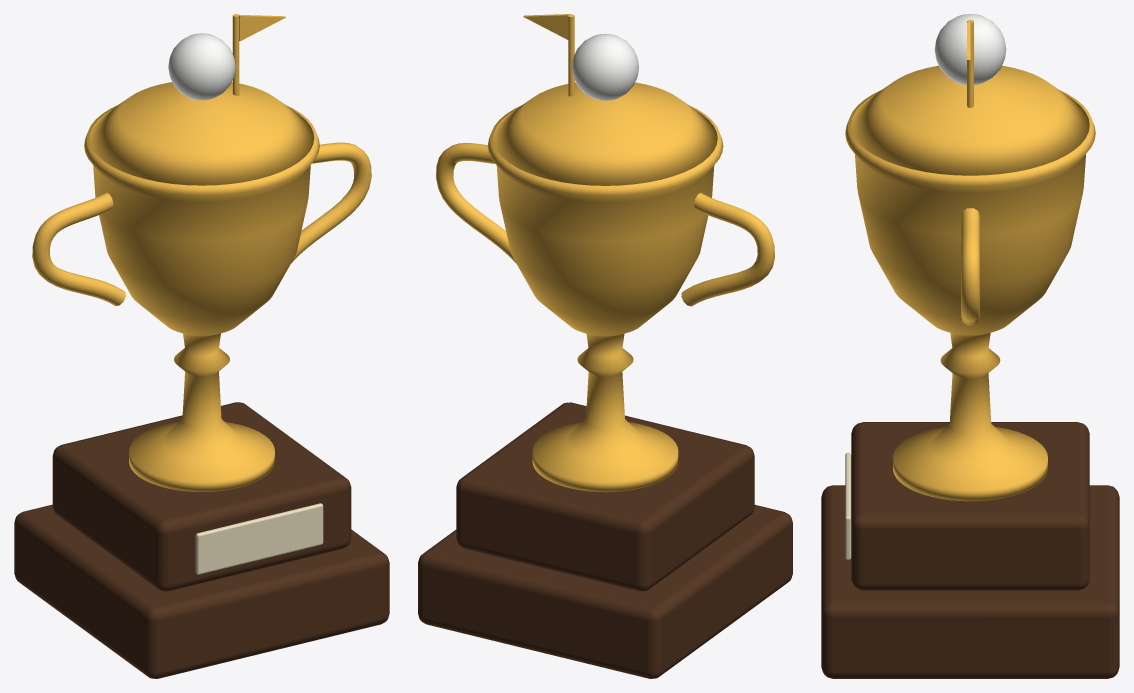
File: AltinKupa.fbx
The picture shows the model from 3 angles, left to right: view 1: azimuth 30°, elevation 25°; view 2: azimuth 150°, elevation 25°; view 3: azimuth 270°, elevation 25°; orthographic projection. The views are drawn at different scales.
Visible parts, largest first — view 1: AltinKupa_Model; view 2: AltinKupa_Model; view 3: AltinKupa_Model.
Boxes of the visible parts, bbox=[...] form: AltinKupa_Model: bbox=[14, 14, 389, 678]; AltinKupa_Model: bbox=[418, 14, 792, 678]; AltinKupa_Model: bbox=[821, 14, 1119, 678].
Size of the model in its own units: 0.6923 by 1.14 by 0.5.
